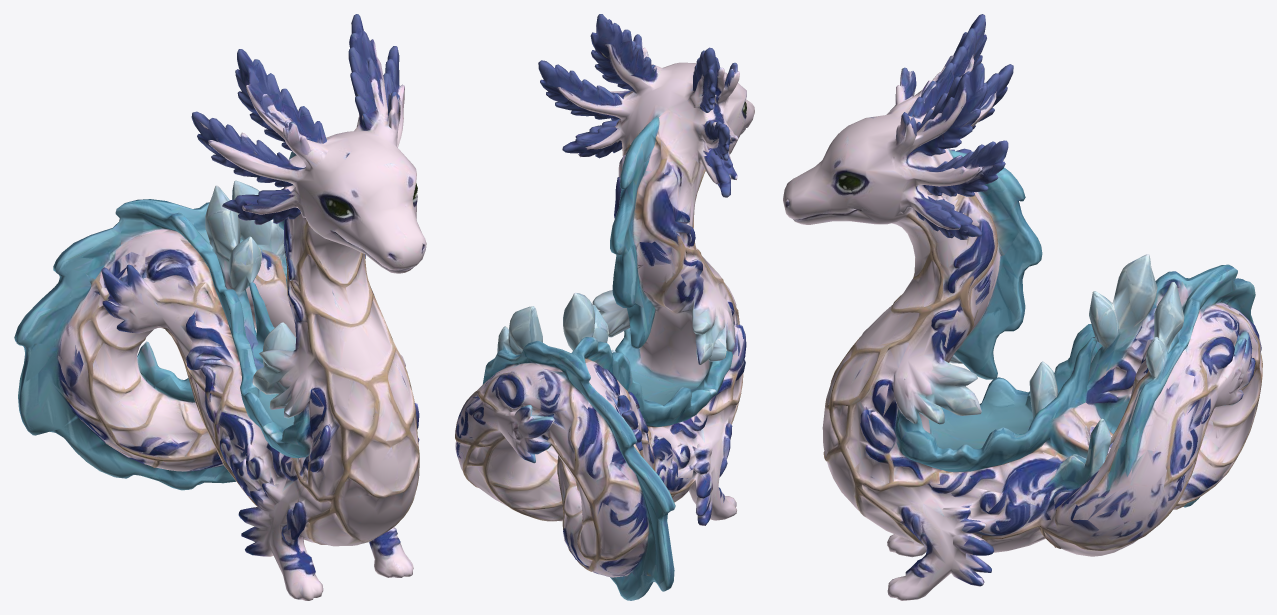
3 renders of one model, left to right at view 1: azimuth 30°, elevation 25°; view 2: azimuth 150°, elevation 25°; view 3: azimuth 270°, elevation 25°, orthographic. The views are drawn at different scales.
Visible parts, largest first — view 1: Mesh_0; view 2: Mesh_0; view 3: Mesh_0.
Part boxes in pixels (left/top/right/bottom): Mesh_0: left=14, top=14, right=426, bottom=600; Mesh_0: left=455, top=14, right=754, bottom=600; Mesh_0: left=783, top=14, right=1262, bottom=600.
Bounding box in the file's own units: 1.01 × 1.9 × 1.55.
1 material, 1 textured.
